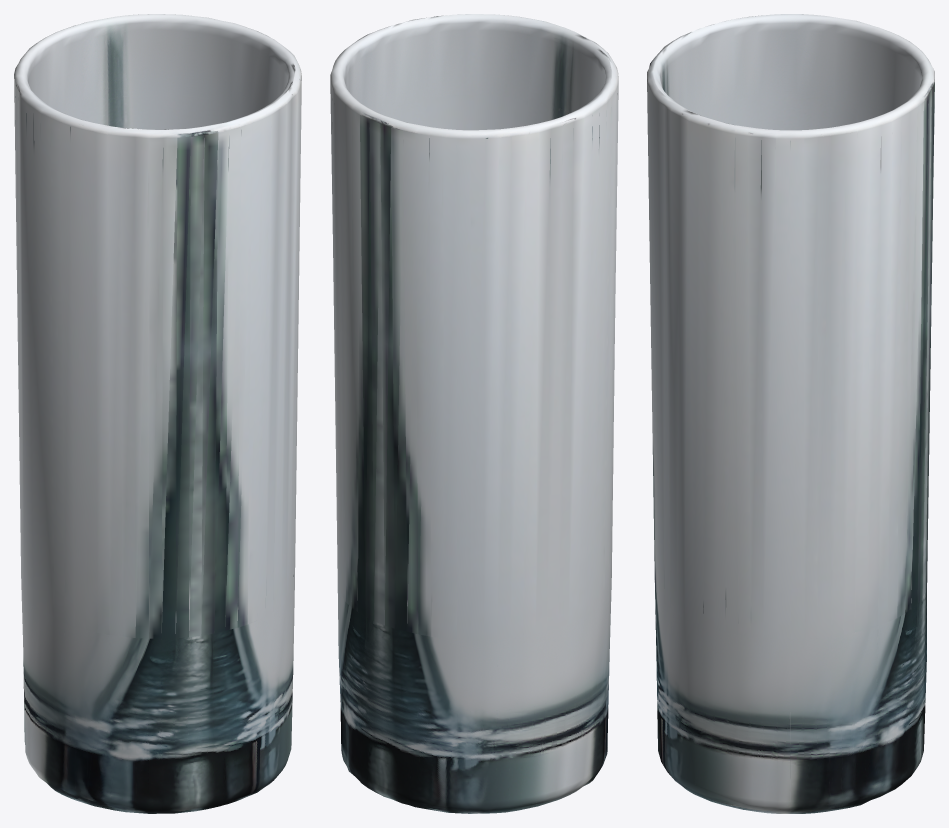
The model's file is Glass_Hiball_13oz_10InchTall_TableTop_0222193932_texture.glb.
The picture shows the model from 3 angles, left to right: view 1: azimuth 30°, elevation 25°; view 2: azimuth 150°, elevation 25°; view 3: azimuth 270°, elevation 25°; orthographic projection.
Parts seen in each view (by area): view 1: Mesh_0; view 2: Mesh_0; view 3: Mesh_0.
Part boxes in pixels (x1,y1,x2,y2): Mesh_0: (14, 14, 301, 813); Mesh_0: (330, 14, 618, 813); Mesh_0: (647, 14, 934, 813).
Size of the model in its own units: 0.0954 by 0.254 by 0.0954.
Materials: 1 (1 with a texture image).
